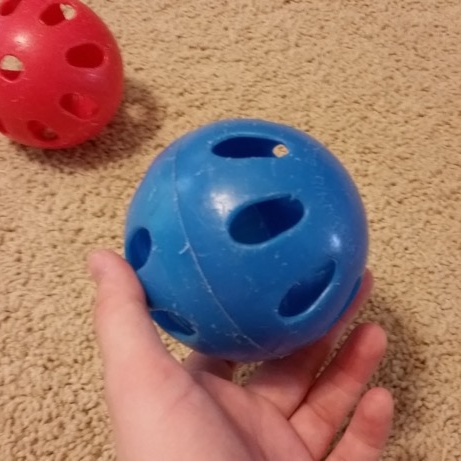ball: (119, 115, 375, 366), (2, 0, 129, 152)
